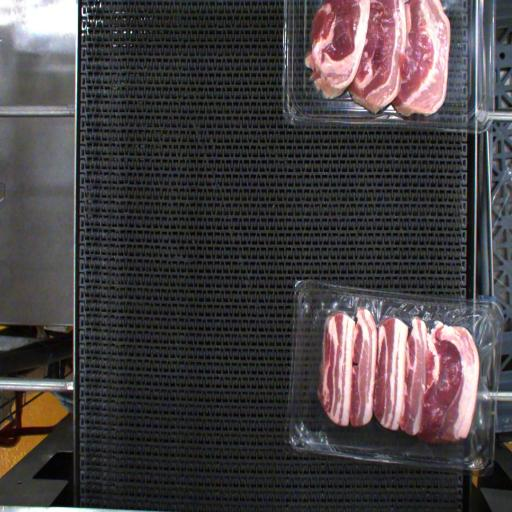unsealed: (304, 281, 497, 460)
